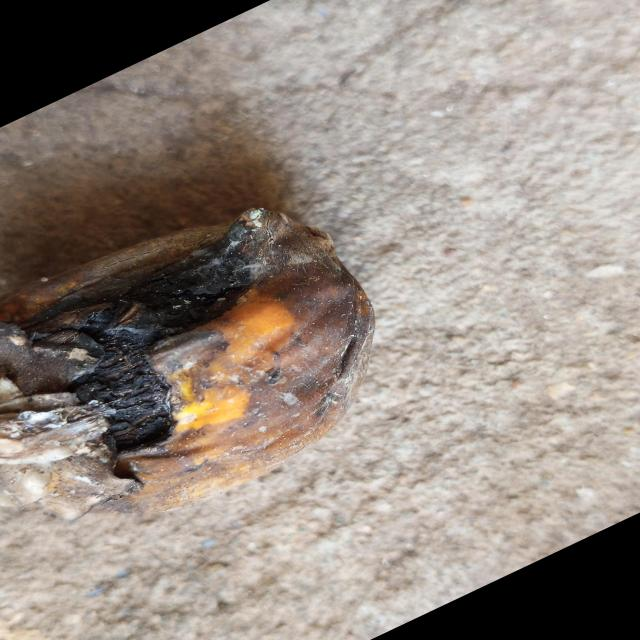damaged: (0, 209, 374, 519)
